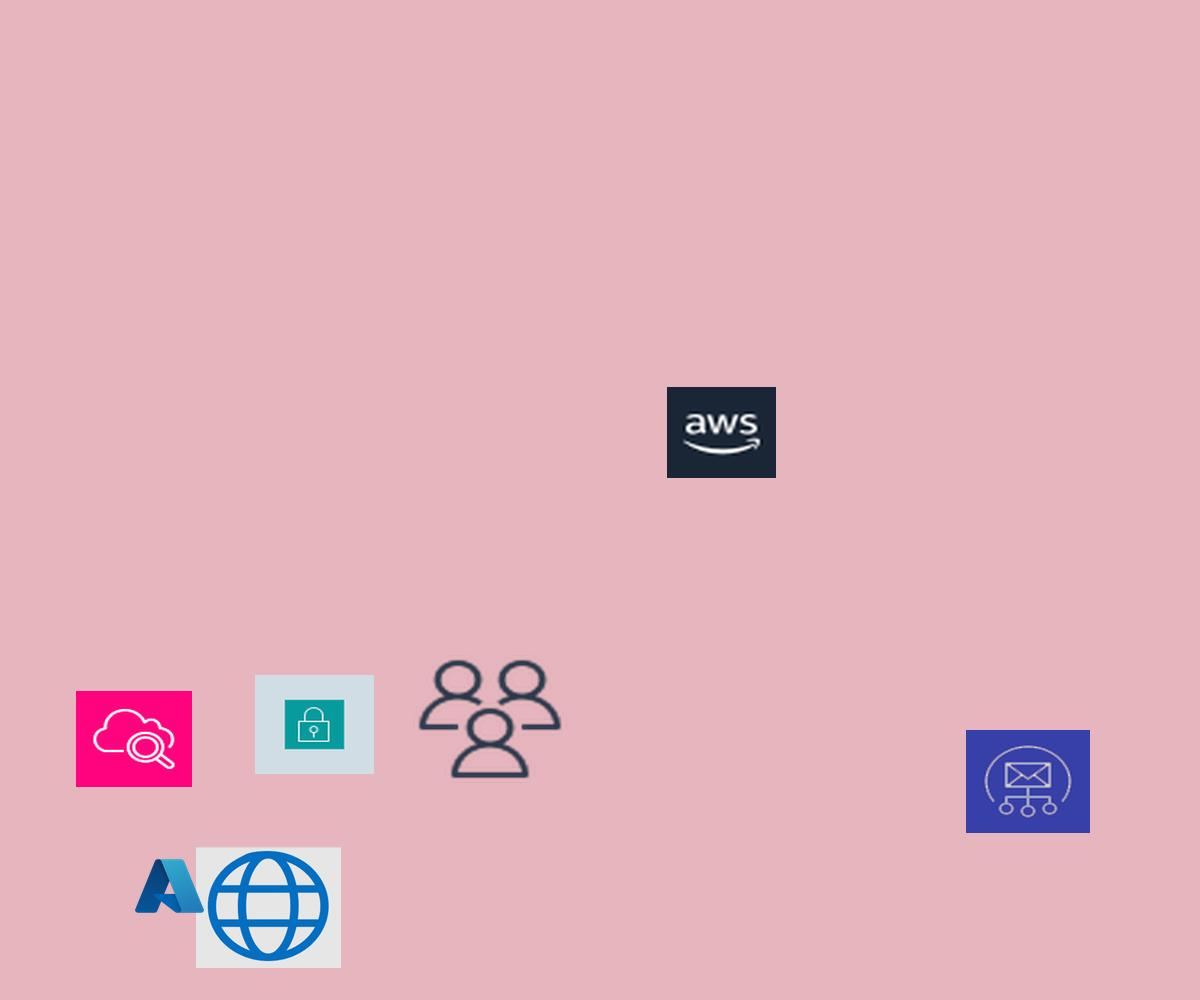AWS-Cloud-logo: (667, 387, 776, 478)
AWS-CloudWatch: (76, 691, 192, 787)
AWS-Private-subnet: (255, 675, 374, 774)
AWS-Res_Users: (413, 655, 567, 783)
AWS-Simple-Email-Service: (966, 730, 1090, 833)
Azure_http: (196, 847, 341, 968)
Azure_services: (132, 855, 207, 917)
